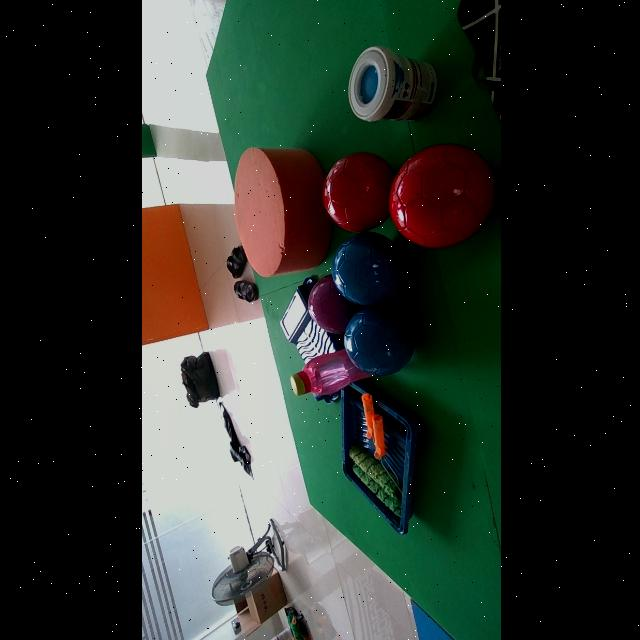B: (330, 232, 404, 305), (343, 306, 414, 376)
P: (306, 275, 362, 333)
R: (388, 144, 493, 248), (322, 152, 392, 231)
